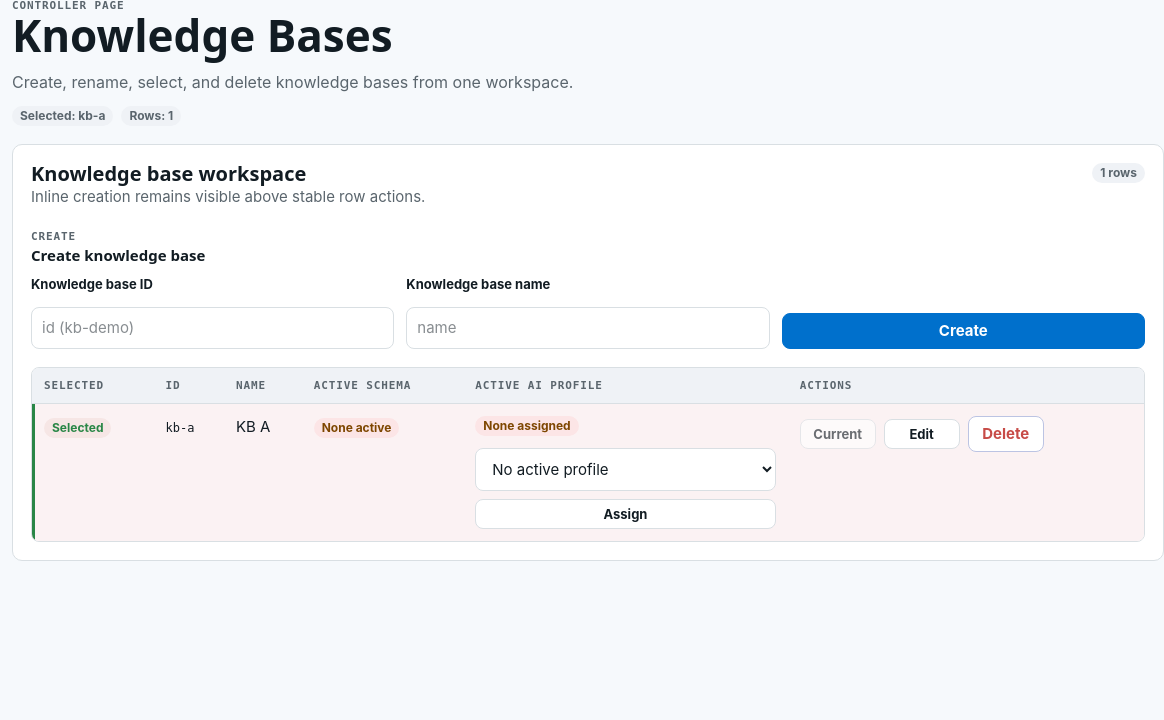
Test case: knowledge bases page › shows update error alert when explicit rename fails
The width and height of the screenshot is (1164, 720).
Click the button "Edit" at (922,434), box [884,420,960,450]
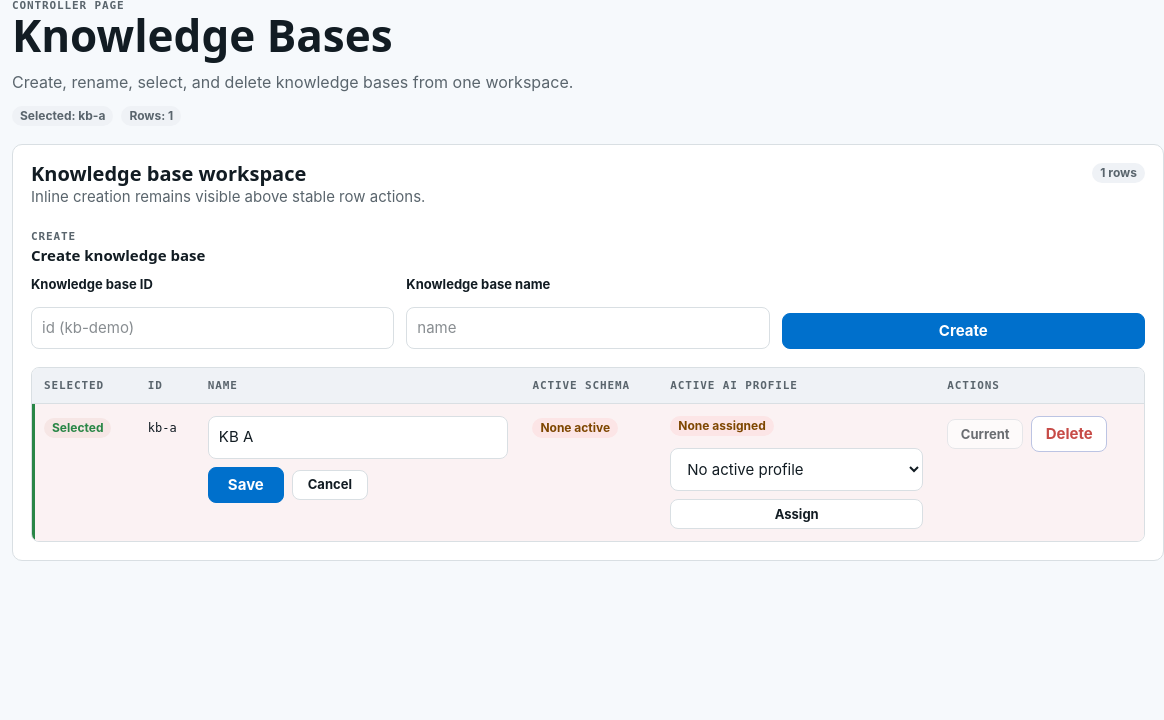
Replace the text in the field named "Rename KB A" with "Renamed KB" at (358,438), box [208,416,508,459]
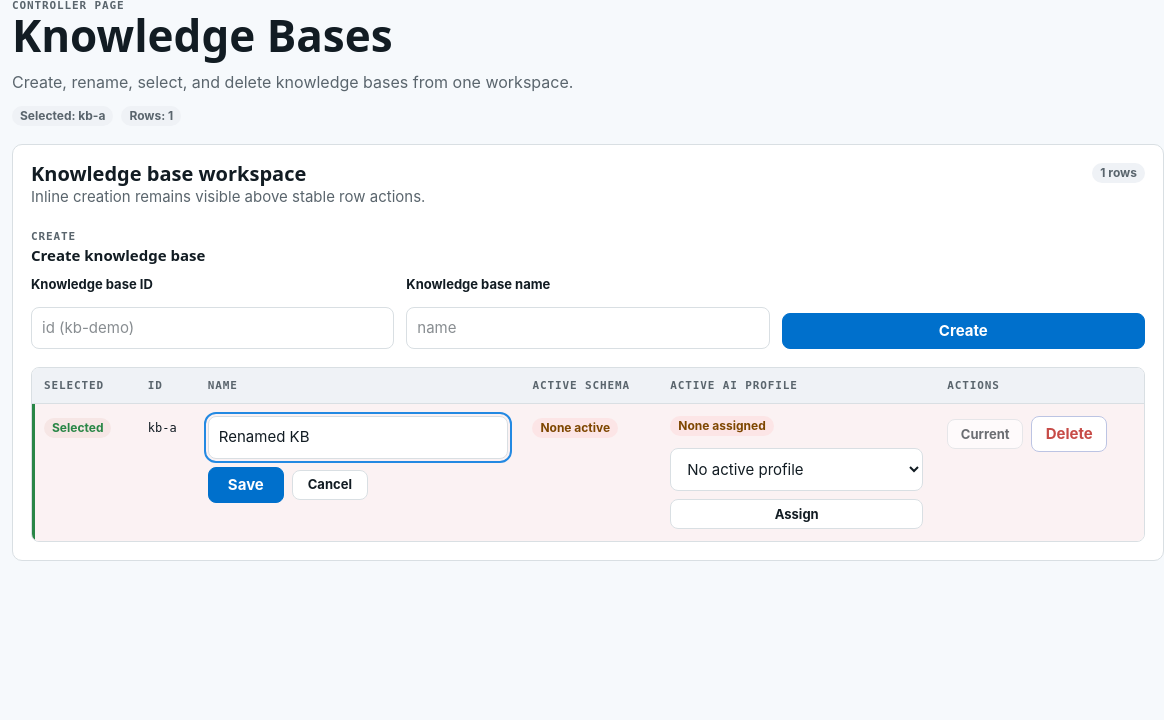
Click the button "Save" at (246,485), box [208,467,284,503]
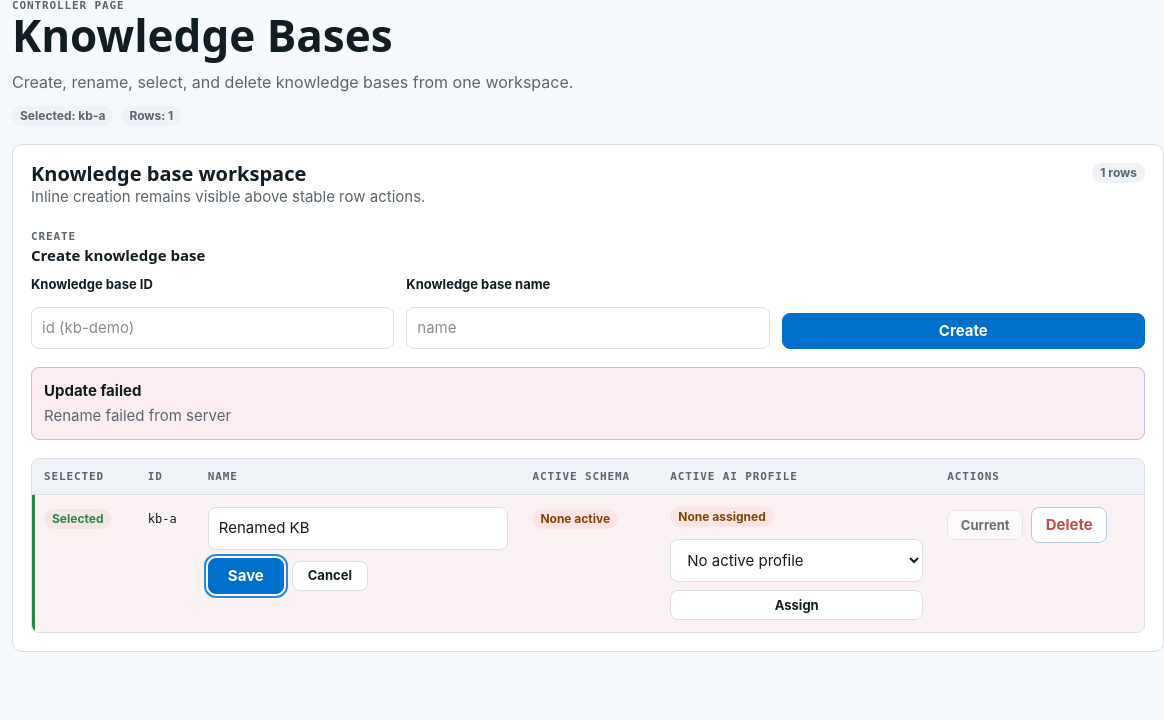
Expected: the text "Update failed" is shown, [44,382,141,400]
Expected: the text "Rename failed from server" is shown, [44,406,231,425]
